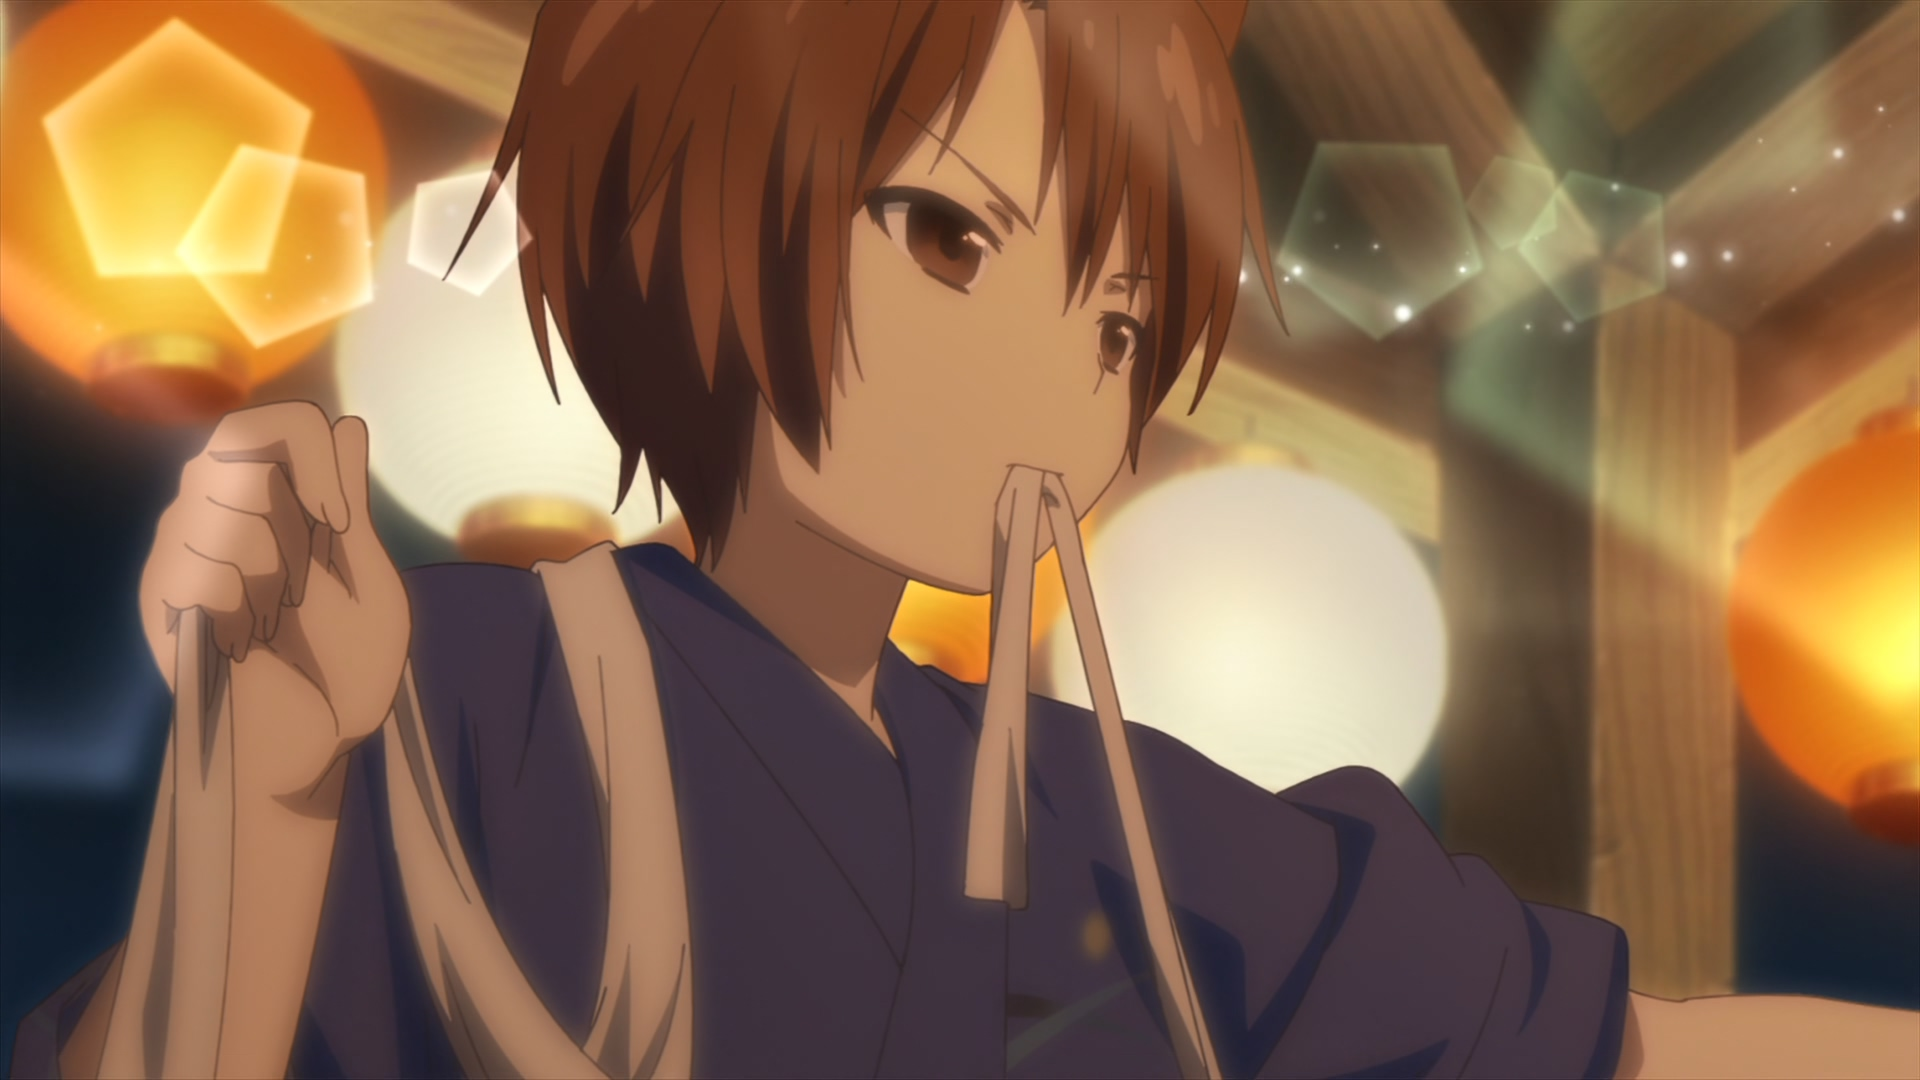枣: (9, 1, 1920, 1080)
